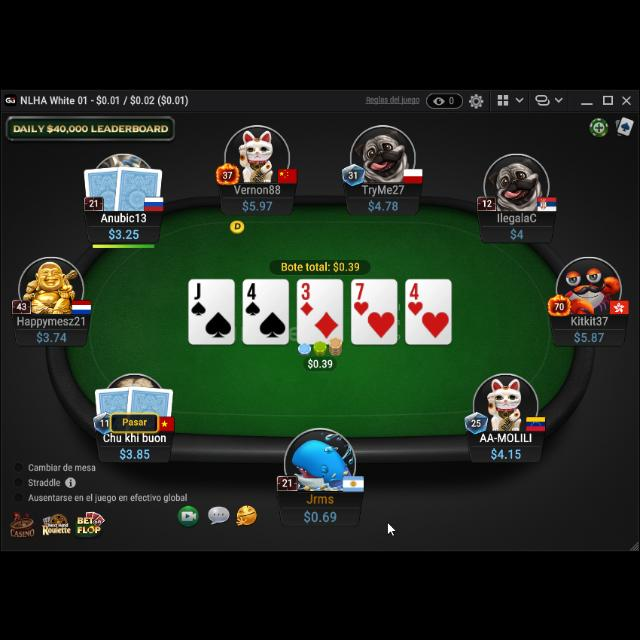3d: (299, 278, 315, 316)
4h: (406, 278, 424, 314)
4s: (244, 278, 262, 316)
7h: (352, 280, 370, 314)
Js: (190, 279, 207, 315)
bet_text: (306, 354, 334, 368)
card_back: (114, 161, 164, 211), (124, 379, 174, 426), (82, 161, 126, 209), (94, 382, 134, 424)
dealer: (228, 216, 246, 232)
pot_text: (280, 258, 360, 272)
stack_text: (302, 504, 338, 522), (108, 222, 140, 238), (574, 326, 606, 340), (119, 443, 151, 457), (490, 442, 522, 456), (35, 326, 67, 340), (367, 195, 399, 209), (242, 195, 274, 209), (509, 223, 525, 237)
